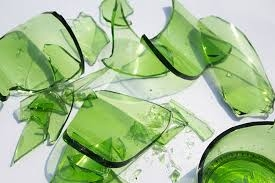glass: (62, 84, 175, 172), (189, 10, 275, 120), (141, 1, 236, 88), (1, 8, 86, 104), (96, 1, 175, 81), (10, 81, 76, 167), (194, 118, 274, 183), (65, 9, 114, 68), (163, 97, 219, 141), (99, 1, 137, 27)
